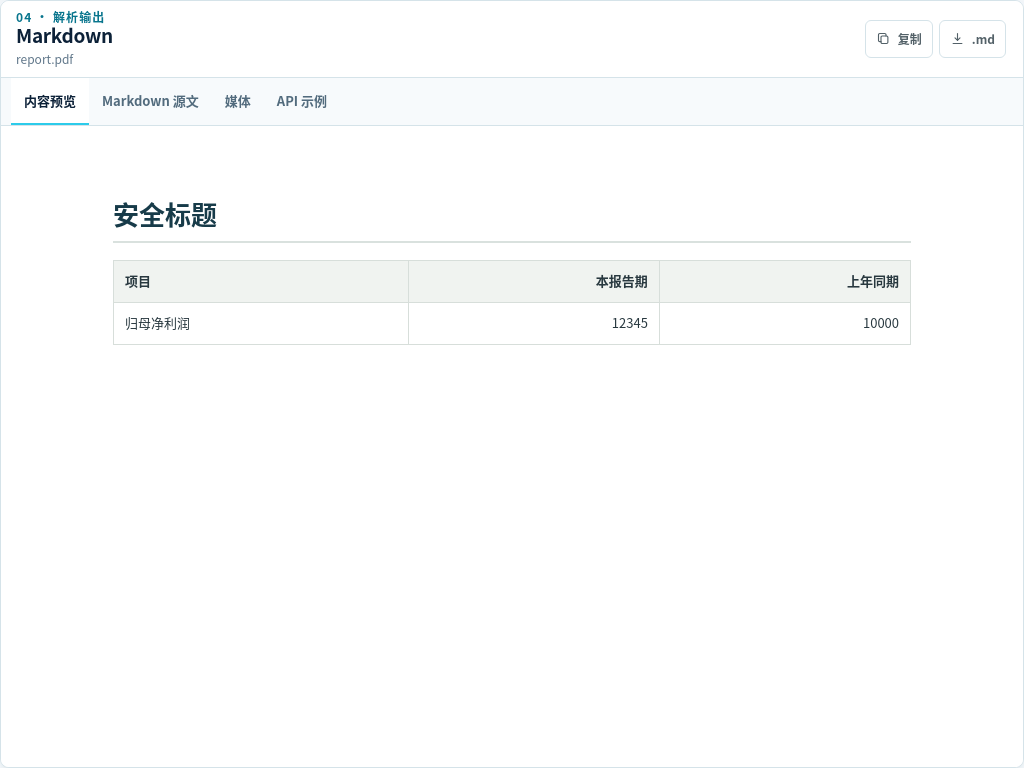
Test case: ResultPane › renders sanitized GFM Markdown and exposes the exact source
The width and height of the screenshot is (1024, 768).
Expected: the heading "安全标题" is shown, 113,197 -> 911,243
Expected: the text "归母净利润" is shown, 114,302 -> 408,344
Click the tab "Markdown 源文".
click(150, 101)  # box 89,78 -> 212,125
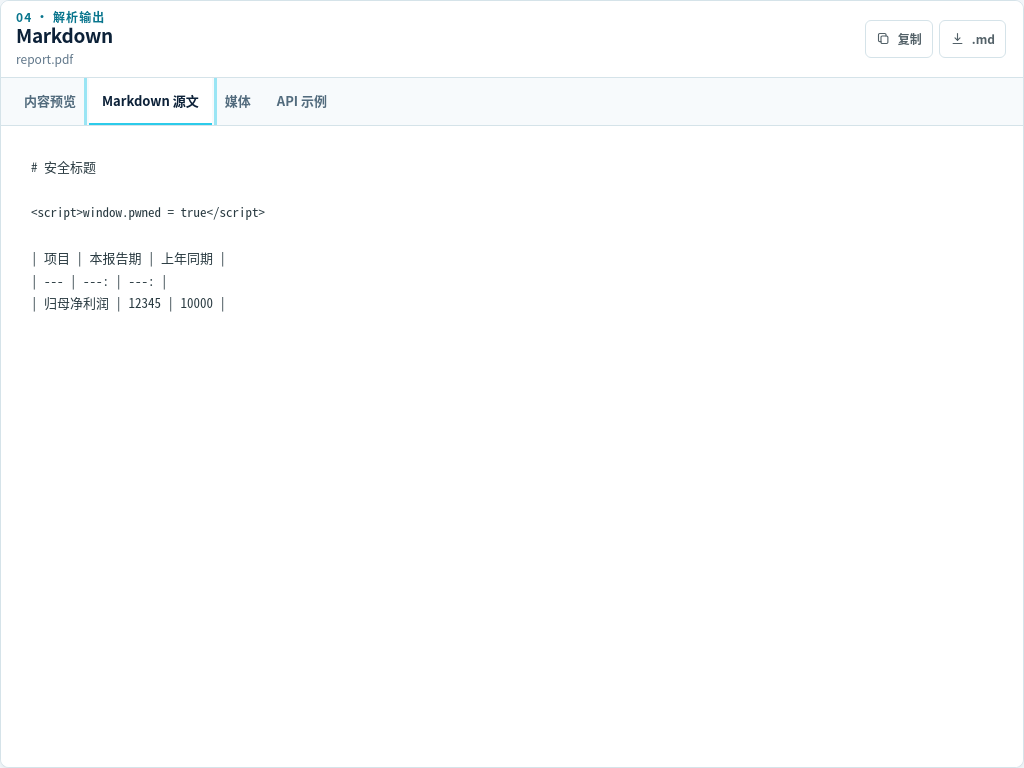
Expected: the text "| 归母净利润 | 12345 | 10000 |" is shown, 31,157 -> 265,312
